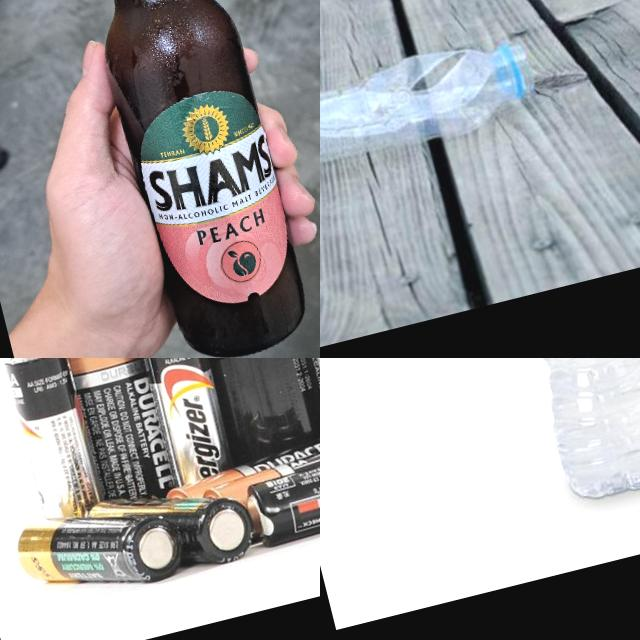bateria: (4, 358, 204, 514), (12, 484, 191, 612), (86, 468, 262, 594), (153, 358, 320, 477), (2, 358, 107, 526), (128, 358, 242, 492), (243, 423, 320, 550)
garrafa de vidro: (42, 0, 315, 358)
garrafa plástica: (320, 8, 545, 224), (488, 358, 640, 506)
